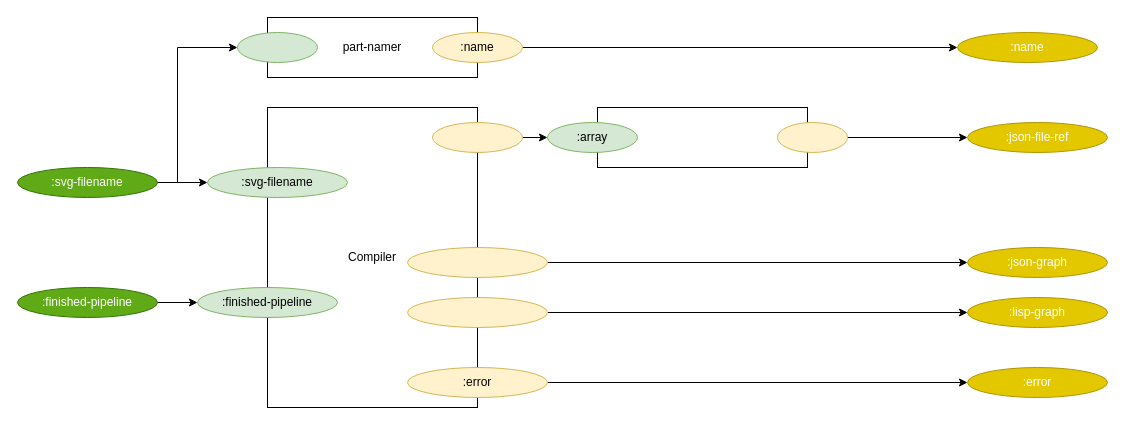
This 1125x425 diagram has some shape labels left out. Here are the shapes that lost their labels. From the top down, the centre of each, then its label:
At point (277, 47): ":filename".
At point (477, 137): ":metadata".
At point (702, 137): "JSON-array-splitter".
At point (812, 137): ":items".
At point (477, 262): ":json".
At point (477, 312): ":lisp".
